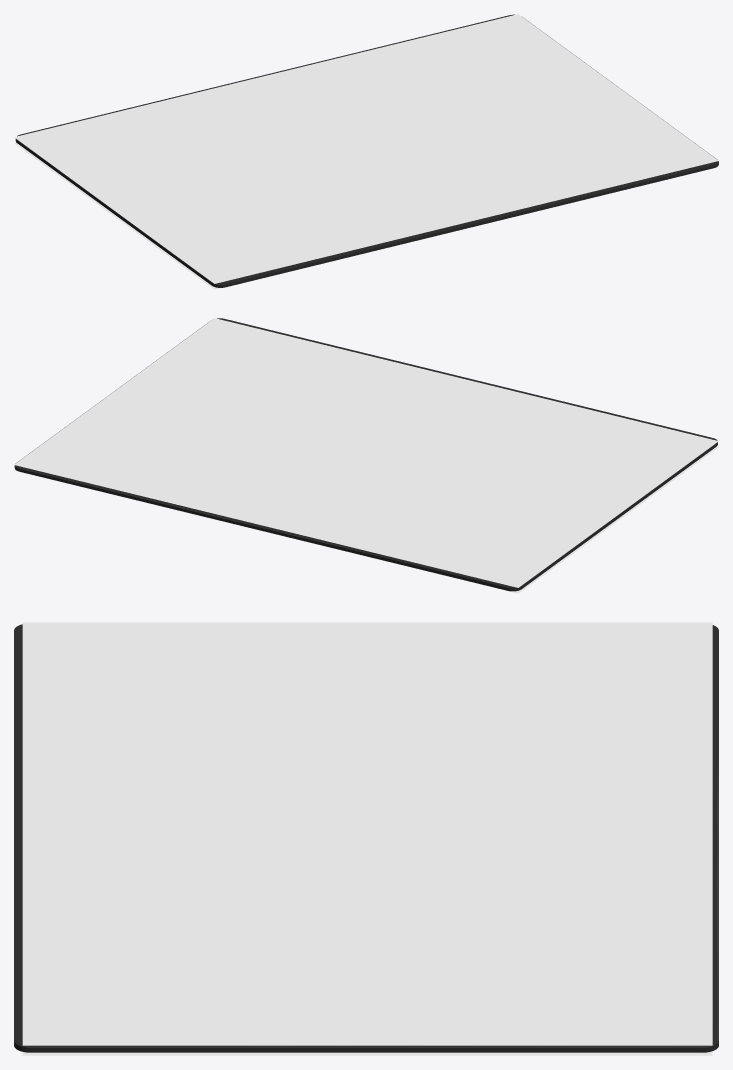
The model's file is ticket-model.glb.
3 views of the same model, one above another, from view 1: azimuth 30°, elevation 25°; view 2: azimuth 150°, elevation 25°; view 3: azimuth 270°, elevation 25° (orthographic). The views are drawn at different scales.
Parts seen in each view (by area): view 1: FrontFace, Plane, BackFace; view 2: FrontFace, Plane, BackFace; view 3: FrontFace, Plane, BackFace.
Part boxes in pixels (x1,y1,x2,y2): FrontFace: (14,14,718,283); Plane: (15,14,718,287); BackFace: (14,142,718,289); FrontFace: (14,318,718,587); Plane: (14,318,717,591); BackFace: (14,446,718,593); FrontFace: (22,622,712,1045); Plane: (14,624,718,1052); BackFace: (22,1051,712,1055).
Bounding box in the file's own units: 4.51 × 0.05 × 3.17.
Materials: 3 (1 with a texture image).
